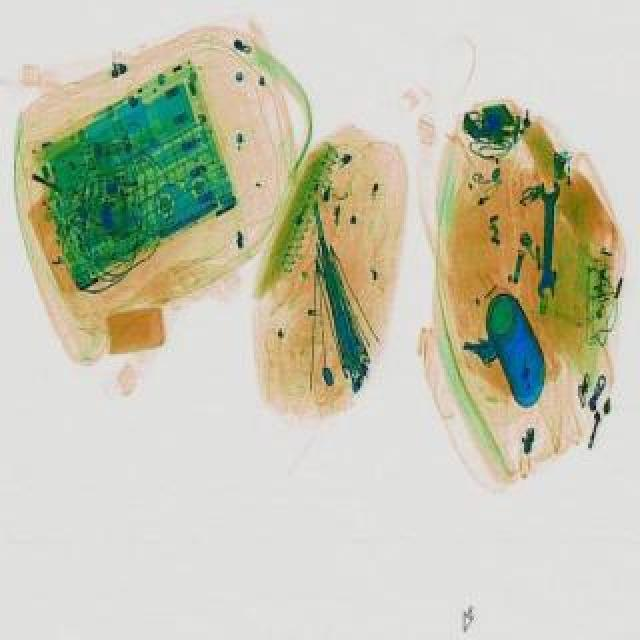scissors: (536, 186, 560, 304)
